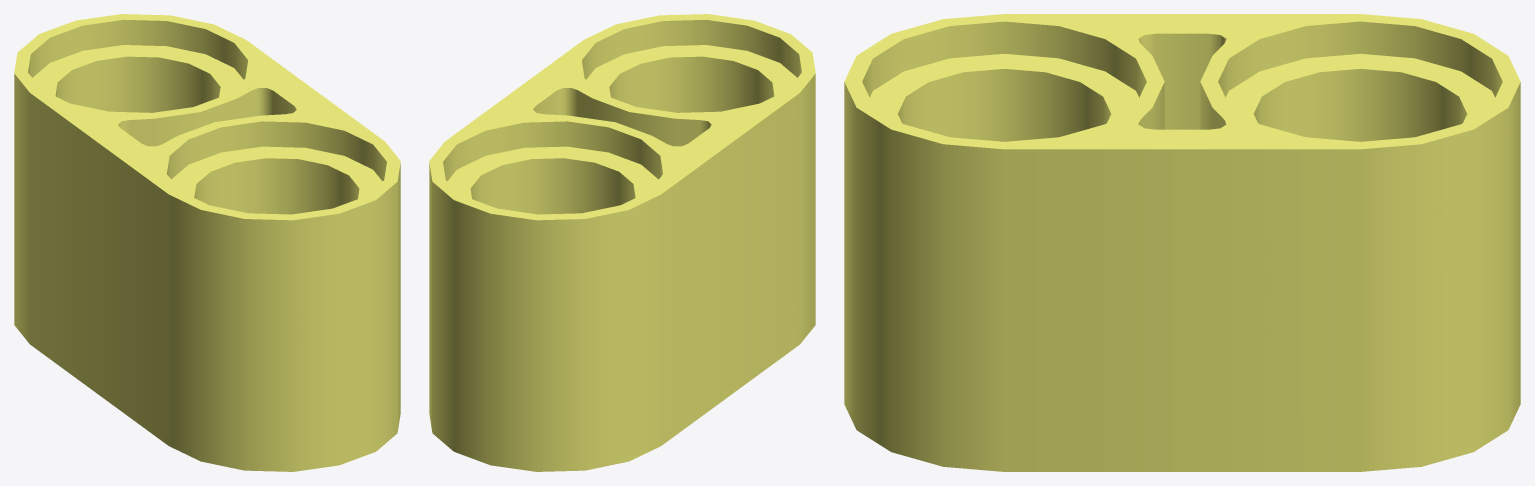
3 renders of one model, left to right at view 1: azimuth 30°, elevation 25°; view 2: azimuth 150°, elevation 25°; view 3: azimuth 270°, elevation 25°, orthographic. The views are drawn at different scales.
Visible parts, largest first — view 1: 43857.dat; view 2: 43857.dat; view 3: 43857.dat.
Boxes of the visible parts, box(x1,y1,x2,y2) form: 43857.dat: box(14, 14, 400, 471); 43857.dat: box(429, 14, 815, 471); 43857.dat: box(844, 14, 1520, 471).
Size of the model in its own units: 0.0072 by 0.008 by 0.0152.
